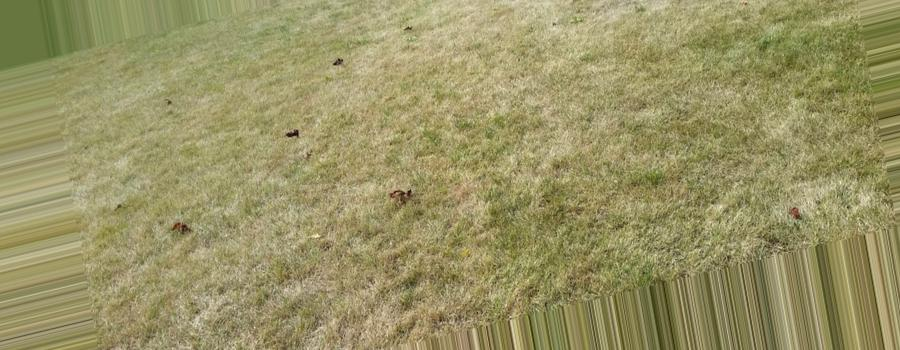patch: (201, 192, 484, 313), (607, 121, 846, 226), (130, 79, 290, 159), (533, 38, 698, 105), (374, 113, 558, 165), (322, 42, 461, 99)
